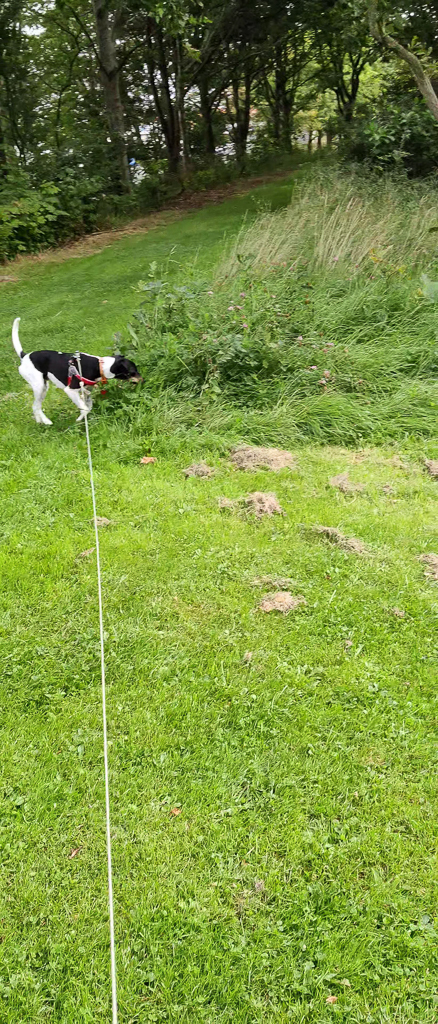Dog: (7, 308, 146, 434)
